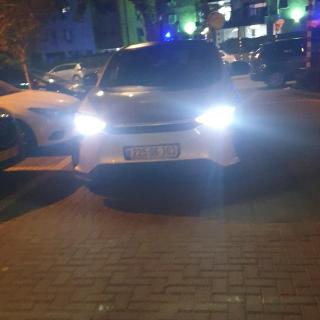LicensePlate: (130, 145, 179, 158)
